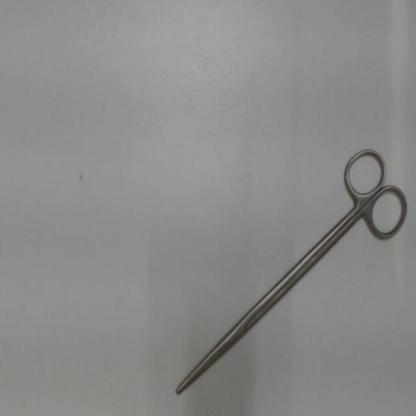9 Metzenbaum Scissors: (172, 138, 412, 398)
